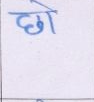e_matra: (28, 0, 60, 10)
